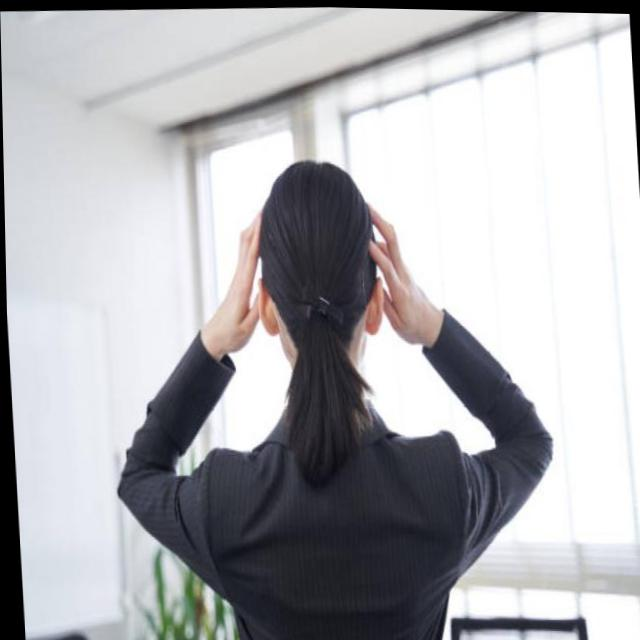no helmet: (242, 139, 393, 403)
